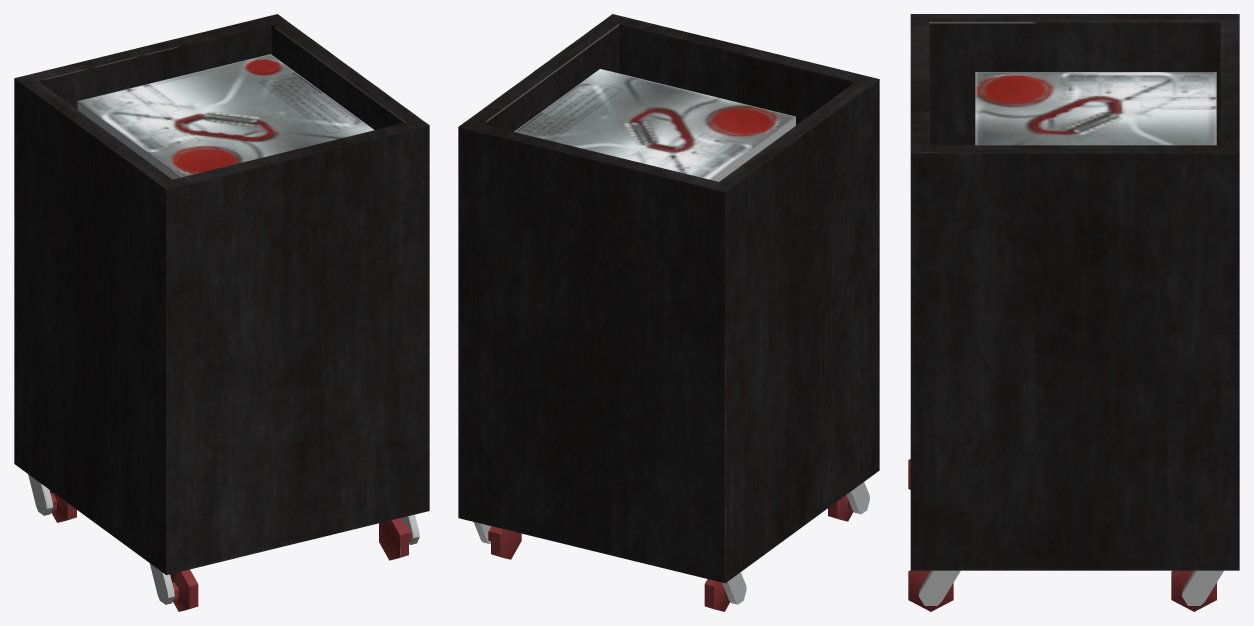
Rendered from LC_3190_Square_barrel_LOD1.FBX.
3 views of the same model, side by side, from view 1: azimuth 30°, elevation 25°; view 2: azimuth 150°, elevation 25°; view 3: azimuth 270°, elevation 25° (orthographic). The views are drawn at different scales.
Visible parts, largest first — view 1: LC_3190_Square_barrel_LOD1; view 2: LC_3190_Square_barrel_LOD1; view 3: LC_3190_Square_barrel_LOD1.
Part boxes in pixels (box(x1,y1,x2,y2)): LC_3190_Square_barrel_LOD1: box(14, 14, 429, 611); LC_3190_Square_barrel_LOD1: box(458, 14, 879, 611); LC_3190_Square_barrel_LOD1: box(908, 14, 1239, 611).
Bounding box in the file's own units: 30 × 47.33 × 30.23.
Materials: 1 (1 with a texture image).
